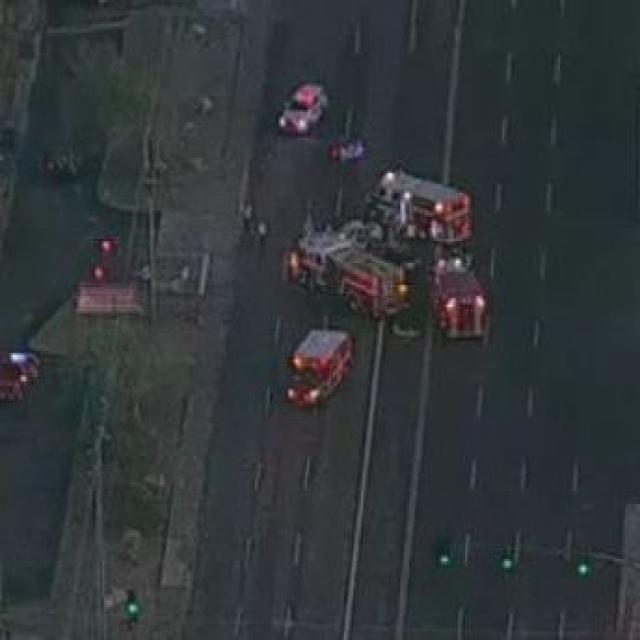traffic_incident: (262, 120, 490, 417)
